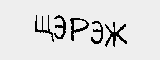Ж: (106, 19, 130, 46)
Р: (69, 15, 90, 44)
Щ: (32, 14, 54, 41)
Э: (51, 12, 67, 43), (90, 20, 106, 44)
